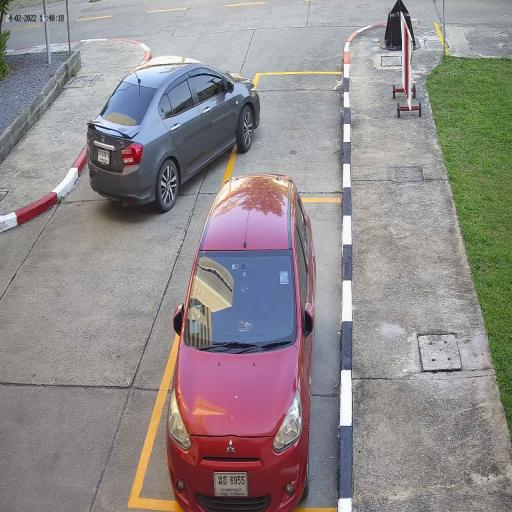car: (165, 170, 316, 512), (85, 56, 262, 210)
